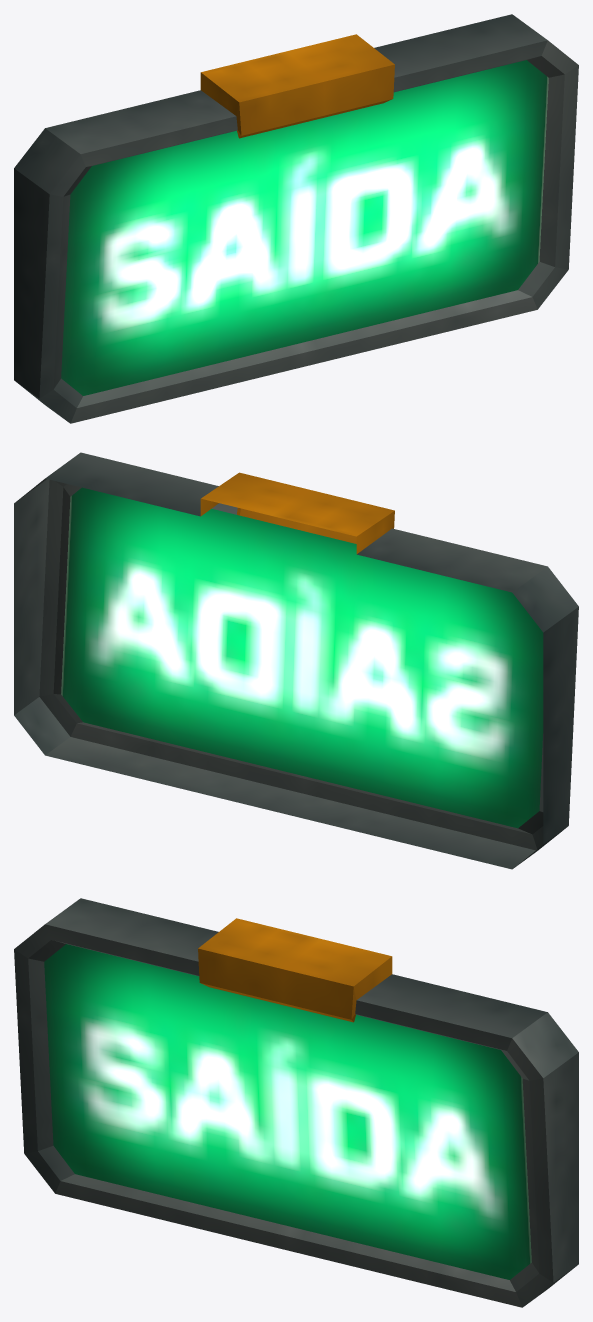
File: SM_PROP_LIGH_SIGN_01.fbx
3 renders of one model, top to bottom at view 1: azimuth 30°, elevation 25°; view 2: azimuth 150°, elevation 25°; view 3: azimuth 330°, elevation 25°, orthographic.
Visible parts, largest first — view 1: SM_PROP_LIGH_SIGN_01; view 2: SM_PROP_LIGH_SIGN_01; view 3: SM_PROP_LIGH_SIGN_01.
Part boxes in pixels (left/top/right/bottom): SM_PROP_LIGH_SIGN_01: left=14, top=14, right=578, bottom=423; SM_PROP_LIGH_SIGN_01: left=14, top=452, right=578, bottom=869; SM_PROP_LIGH_SIGN_01: left=14, top=898, right=578, bottom=1307.
Size of the model in its own units: 0.6 by 0.3194 by 0.0761.
